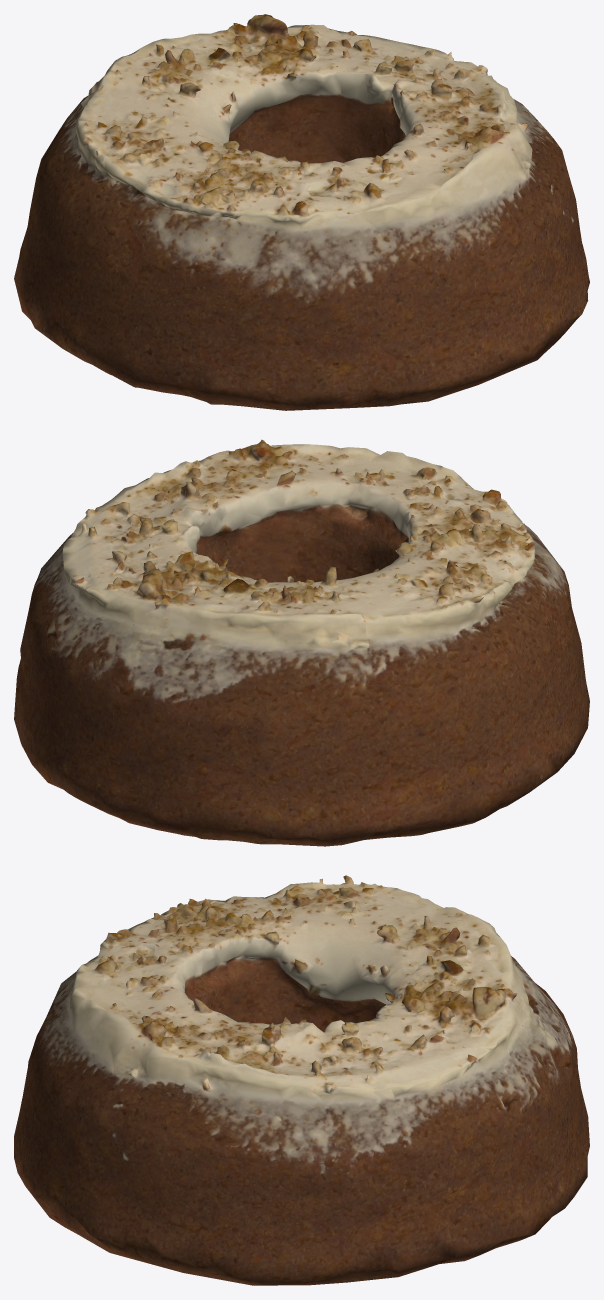
File: carrot-cake.glb
3 renders of one model, top to bottom at view 1: azimuth 30°, elevation 25°; view 2: azimuth 150°, elevation 25°; view 3: azimuth 270°, elevation 25°, orthographic. The views are drawn at different scales.
Visible parts, largest first — view 1: carrot_cake; view 2: carrot_cake; view 3: carrot_cake.
Boxes of the visible parts, left/top/right/bottom form: carrot_cake: left=14, top=14, right=589, bottom=410; carrot_cake: left=14, top=439, right=589, bottom=846; carrot_cake: left=14, top=875, right=589, bottom=1285.
Size of the model in its own units: 0.225 by 0.0974 by 0.225.
Materials: 1 (1 with a texture image).
